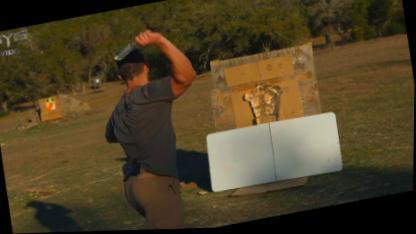knife: (106, 27, 156, 65)
